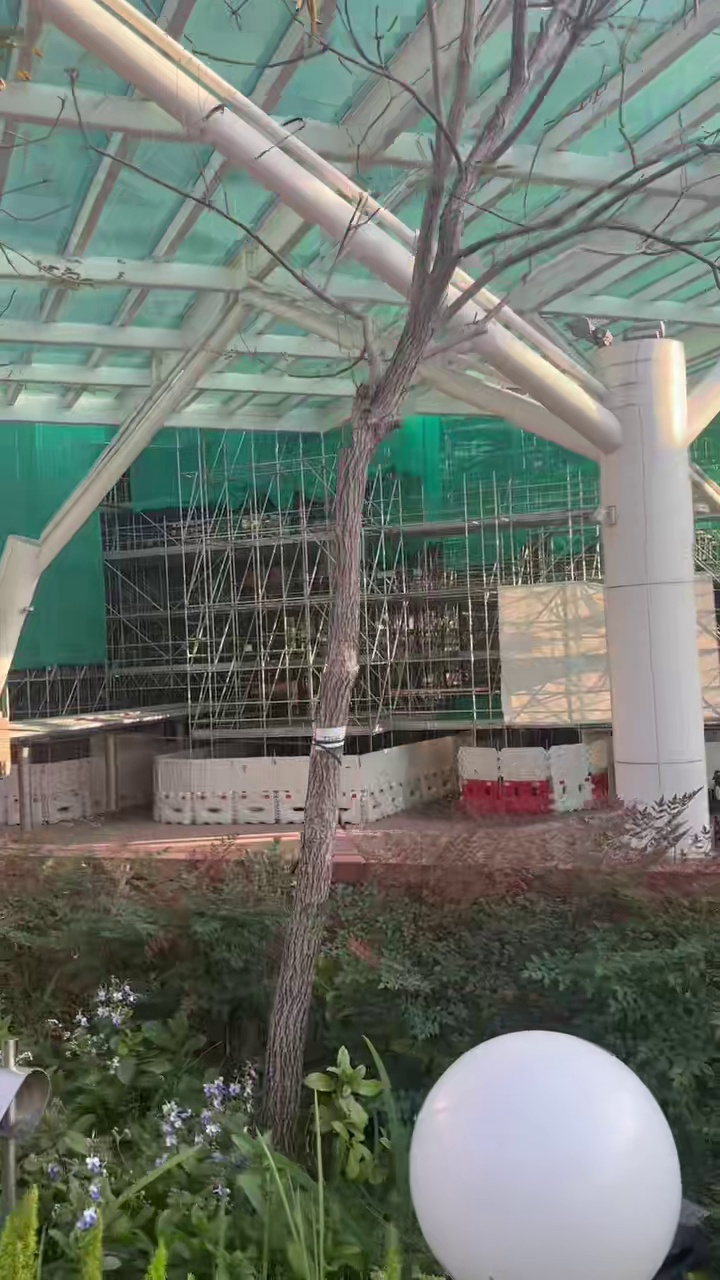Tabebuia chrysantha: (247, 0, 629, 1152)
